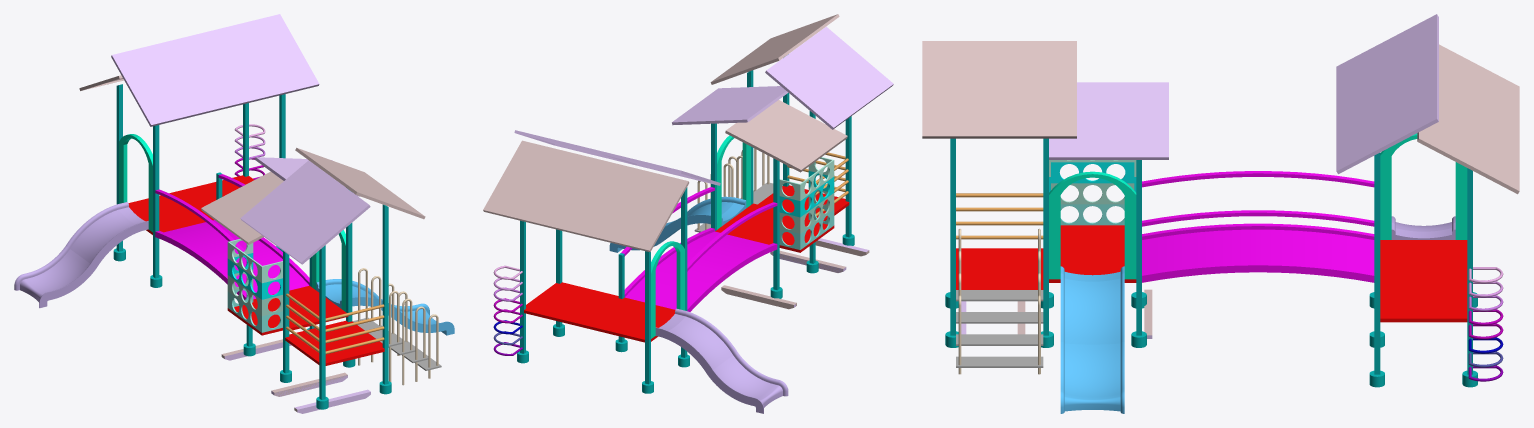
The model's file is playground.dae.
3 renders of one model, left to right at view 1: azimuth 30°, elevation 25°; view 2: azimuth 150°, elevation 25°; view 3: azimuth 270°, elevation 25°, orthographic. The views are drawn at different scales.
Parts seen in each view (by area): view 1: instance_24, instance_15, instance_76, group_0, instance_23, instance_18, instance_10, instance_12, instance_11, instance_75, instance_5, instance_77 (+19 smaller); view 2: instance_20, instance_15, instance_76, instance_23, instance_18, group_0, instance_16, instance_12, instance_11, instance_75, instance_77, instance_74 (+19 smaller); view 3: instance_12, instance_24, instance_20, instance_75, group_0, instance_16, instance_23, instance_10, instance_11, instance_74, instance_77, instance_2 (+16 smaller).
Part boxes in pixels (x1,y1,x2,y2): instance_24: (111, 14, 319, 126); instance_15: (240, 160, 370, 264); instance_76: (14, 202, 148, 308); group_0: (155, 220, 308, 300); instance_23: (128, 175, 253, 234); instance_18: (201, 171, 283, 244); instance_10: (285, 320, 384, 365); instance_12: (295, 147, 425, 219); instance_11: (227, 285, 348, 335); instance_75: (316, 279, 454, 335); instance_5: (382, 204, 388, 384); instance_77: (119, 134, 152, 232); instance_20: (483, 140, 689, 252); instance_15: (765, 26, 893, 129); instance_76: (655, 308, 788, 413); instance_23: (524, 282, 675, 342); instance_18: (725, 100, 847, 172); group_0: (625, 231, 777, 311); instance_16: (672, 86, 788, 125); instance_12: (710, 14, 839, 84); instance_11: (715, 203, 834, 252); instance_75: (609, 196, 746, 252); instance_77: (651, 241, 684, 338); instance_74: (717, 135, 750, 229); instance_12: (922, 41, 1076, 138); instance_24: (1336, 14, 1438, 174); instance_20: (1417, 44, 1519, 194); instance_75: (1060, 266, 1124, 413); group_0: (1142, 229, 1374, 282); instance_16: (1049, 82, 1168, 159); instance_23: (1380, 240, 1467, 322); instance_10: (956, 248, 1043, 289); instance_11: (1049, 225, 1136, 282); instance_74: (1049, 171, 1136, 279); instance_77: (1380, 133, 1467, 239); instance_2: (1142, 210, 1374, 226).
Bounding box in the file's own units: 217 × 309 × 162.
